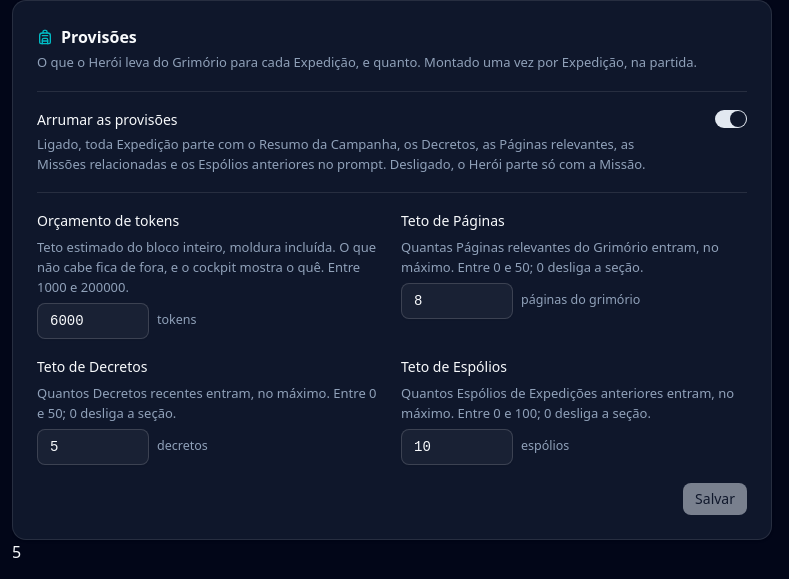
Test: bloco das provisões em Settings › não apaga o que está sendo digitado quando uma releitura chega
Replace the text in the number field labelled "Orçamento de tokens" with "12000": (93, 320) [37,302,149,338]
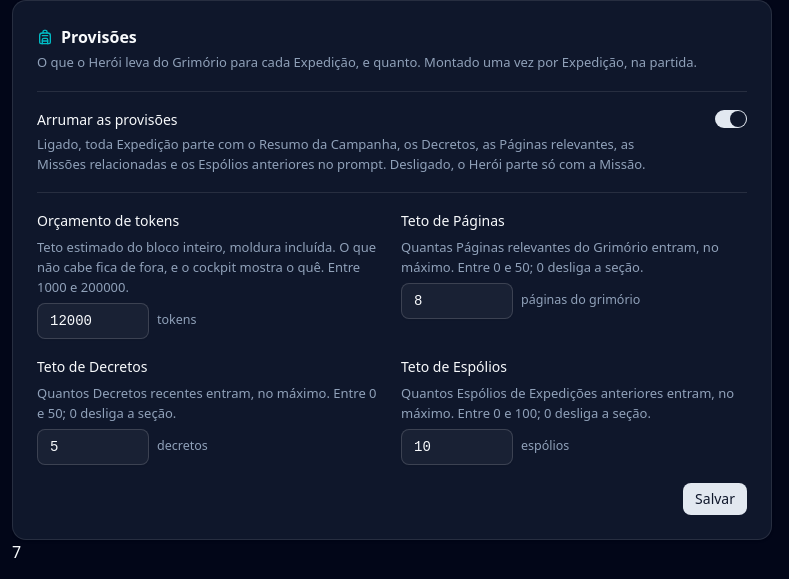
Check: the text "7" is shown, box [12,540,21,562]
Check: the button "Salvar" is enabled, box [683,482,747,514]
